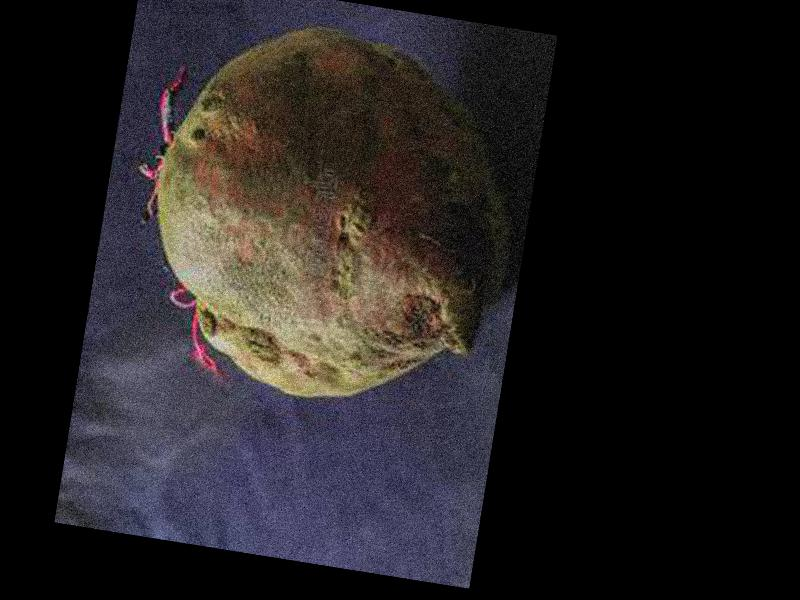Beet: (111, 5, 536, 424)
